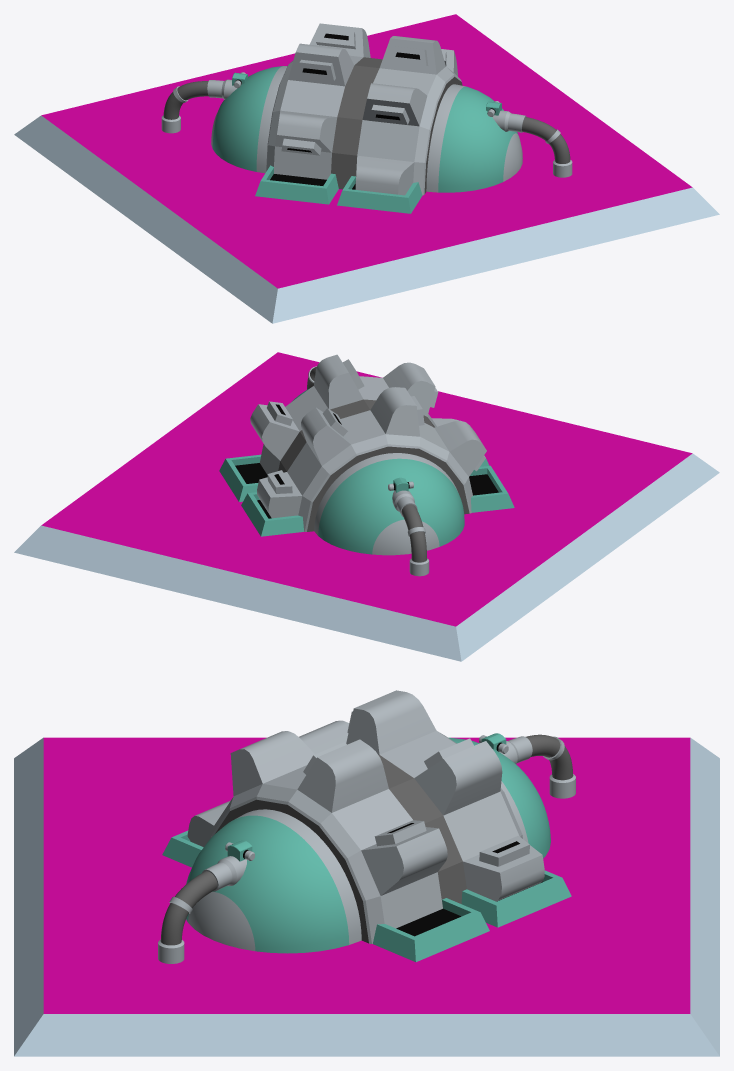
Rendered from 59_Haarvester_FUD4.fbx.
The picture shows the model from 3 angles, top to bottom: view 1: azimuth 30°, elevation 25°; view 2: azimuth 150°, elevation 25°; view 3: azimuth 270°, elevation 25°; orthographic projection. The views are drawn at different scales.
Visible parts, largest first — view 1: foundation4, pCylinder114, pSphere42, pSphere31, pPlane31, pCylinder256, pCylinder255, pPlane32; view 2: foundation4, pCylinder114, pSphere31, pPlane31, pCylinder255, pPlane32; view 3: foundation4, pCylinder114, pSphere42, pPlane32, pCylinder256, pSphere31, pPlane31, pCylinder255.
Boxes of the visible parts, x1,y1,x2,y2 form: foundation4: (14, 14, 719, 323); pCylinder114: (266, 23, 462, 195); pSphere42: (426, 84, 522, 192); pSphere31: (211, 66, 287, 173); pPlane31: (255, 165, 338, 204); pCylinder256: (486, 101, 572, 177); pCylinder255: (161, 72, 247, 133); pPlane32: (337, 176, 422, 213); foundation4: (14, 352, 719, 661); pCylinder114: (250, 354, 486, 531); pSphere31: (314, 453, 464, 555); pPlane31: (241, 465, 514, 536); pCylinder255: (392, 477, 429, 576); pPlane32: (219, 454, 489, 501); foundation4: (14, 737, 719, 1056); pCylinder114: (187, 690, 544, 943); pSphere42: (186, 809, 361, 953); pPlane32: (162, 830, 489, 961); pCylinder256: (158, 840, 252, 963); pSphere31: (448, 737, 550, 858); pPlane31: (461, 870, 571, 927); pCylinder255: (481, 733, 575, 798).
Bounding box in the file's own units: 2 × 0.9392 × 2.
